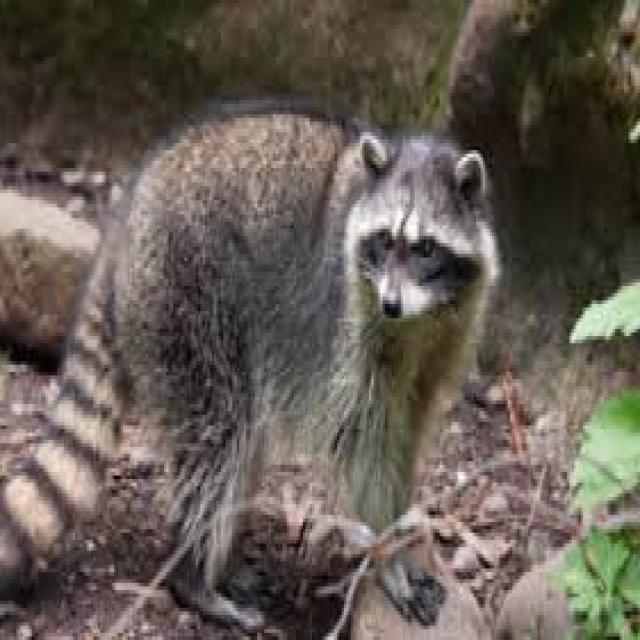raccoon: (2, 100, 501, 622)
